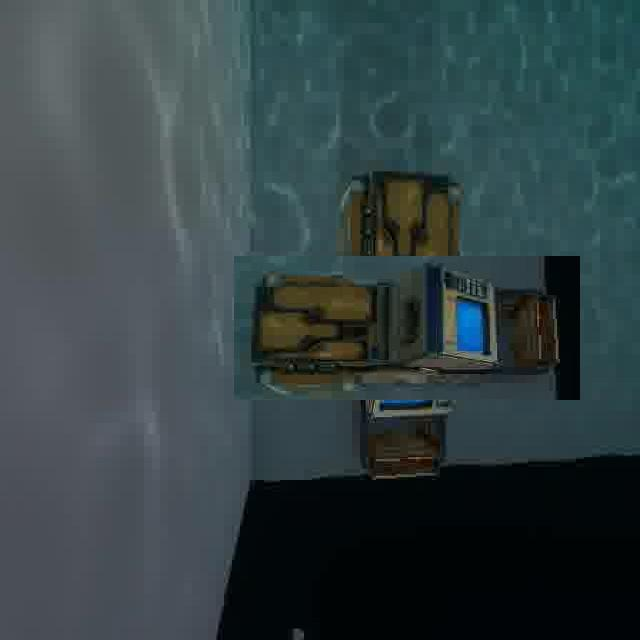Control Panel: (284, 204, 530, 450)
